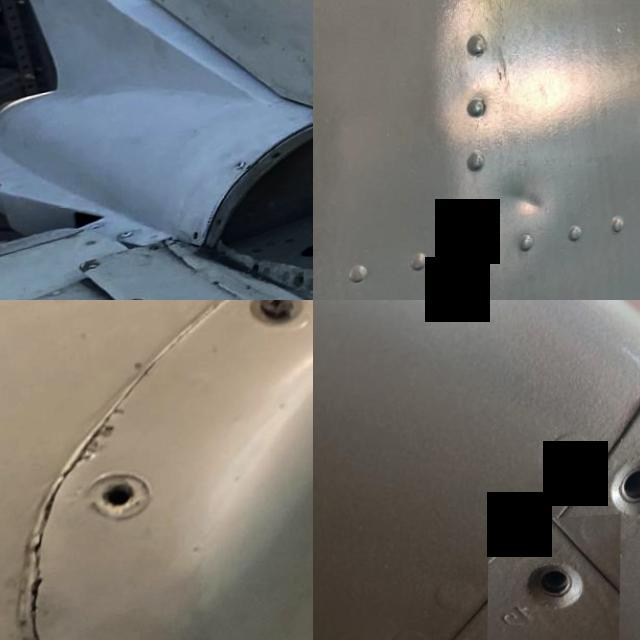Crack: (0, 449, 71, 640)
Dent: (483, 166, 571, 262)
Missing_Fastener: (488, 518, 622, 640), (570, 422, 640, 565), (90, 476, 147, 522), (126, 295, 152, 300)
